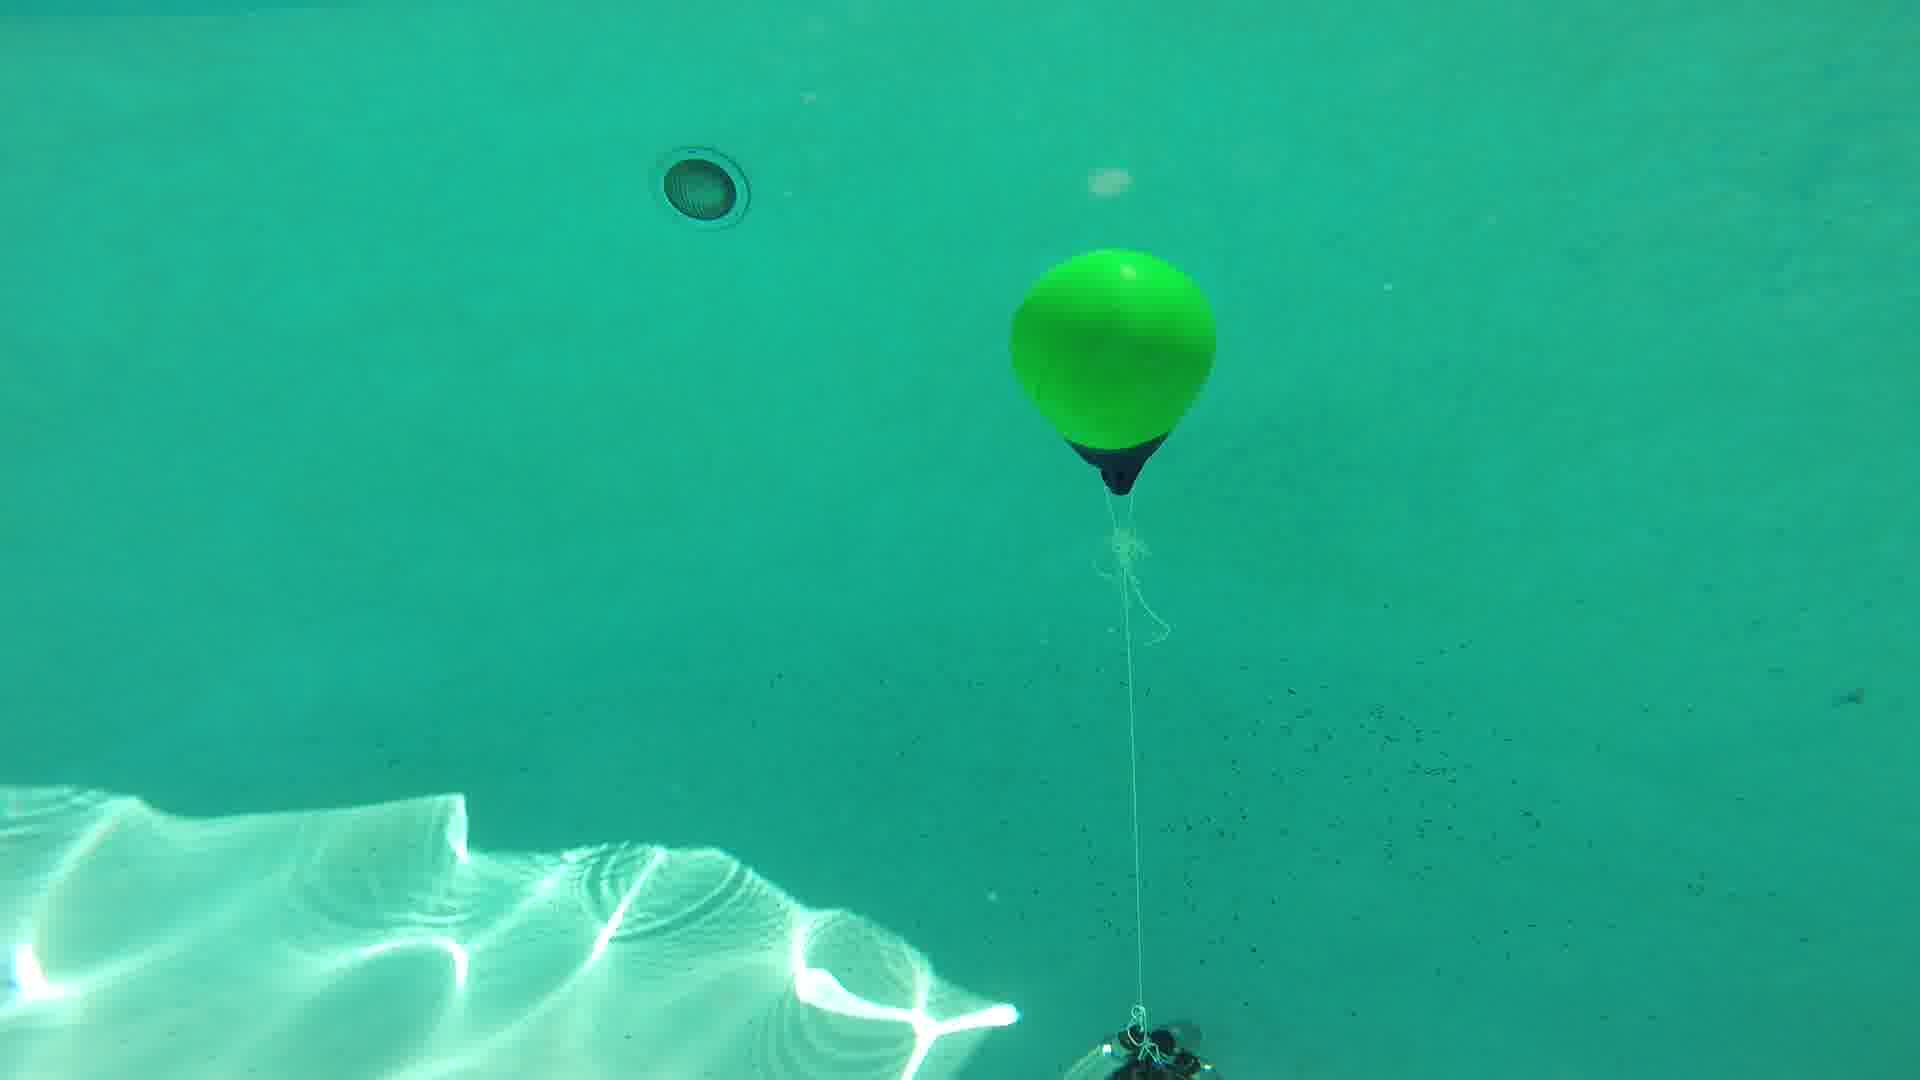yellow_buoy: (1010, 251, 1215, 495)
